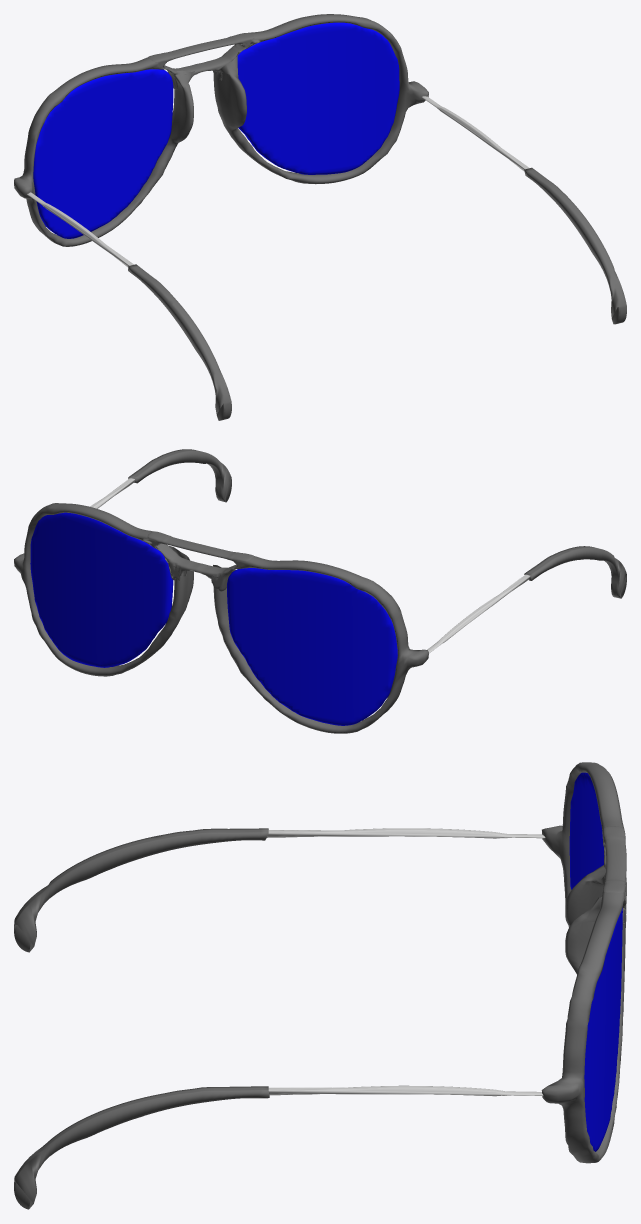
The model's file is blueglasses.fbx.
3 views of the same model, one above another, from view 1: azimuth 30°, elevation 25°; view 2: azimuth 150°, elevation 25°; view 3: azimuth 270°, elevation 25° (orthographic). The views are drawn at different scales.
Parts seen in each view (by area): view 1: Empty_Mesh_1_1; view 2: Empty_Mesh_1_1; view 3: Empty_Mesh_1_1.
Boxes of the visible parts, x1=… form: Empty_Mesh_1_1: x1=14, y1=14, x2=626, y2=420; Empty_Mesh_1_1: x1=14, y1=449, x2=626, y2=733; Empty_Mesh_1_1: x1=14, y1=762, x2=626, y2=1209.
Size of the model in its own units: 14.67 by 5.85 by 14.33.
